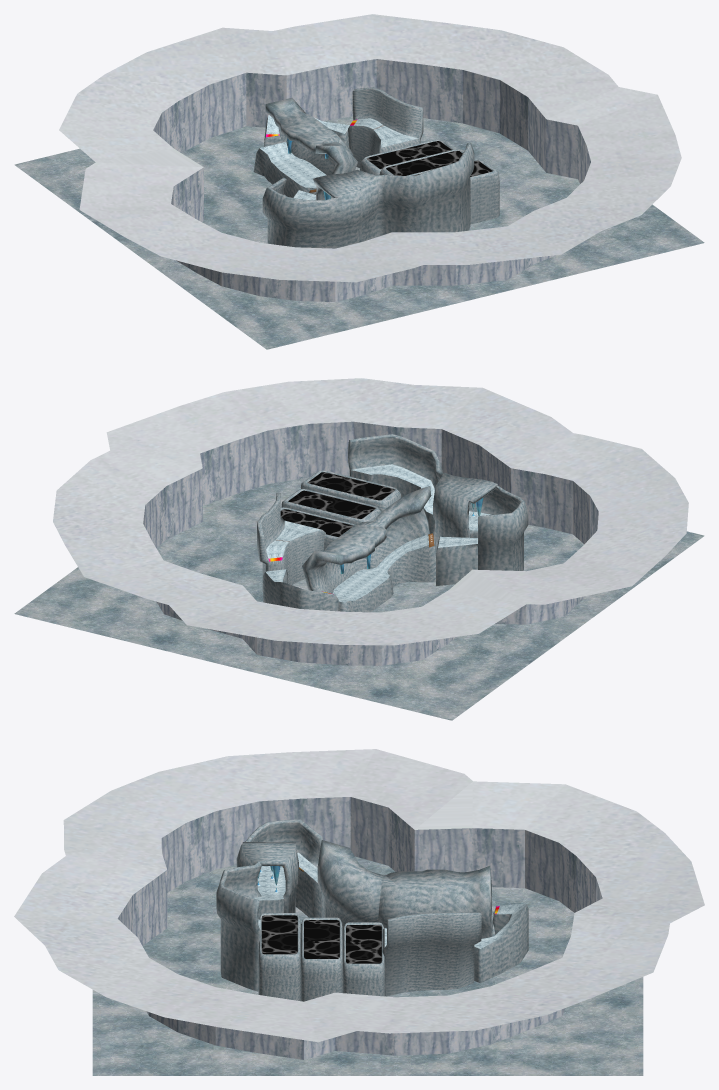
3 views of the same model, one above another, from view 1: azimuth 30°, elevation 25°; view 2: azimuth 150°, elevation 25°; view 3: azimuth 270°, elevation 25° (orthographic). The views are drawn at different scales.
Parts seen in each view (by area): view 1: ice1, wall2.001, wall1.001, road.009, water.015; view 2: ice1, wall2.001, wall1.001, road.009, water.015; view 3: ice1, wall2.001, wall1.001, water.015, road.009.
Part boxes in pixels (left/top/right/bottom): ice1: left=59, top=14, right=681, bottom=282; wall2.001: left=14, top=87, right=704, bottom=349; wall1.001: left=153, top=59, right=590, bottom=301; road.009: left=260, top=115, right=418, bottom=200; water.015: left=367, top=141, right=492, bottom=176; ice1: left=53, top=378, right=688, bottom=645; wall2.001: left=14, top=434, right=704, bottom=720; wall1.001: left=143, top=421, right=598, bottom=665; road.009: left=265, top=464, right=490, bottom=602; water.015: left=280, top=472, right=394, bottom=536; ice1: left=14, top=749, right=704, bottom=1042; wall2.001: left=92, top=819, right=643, bottom=1075; wall1.001: left=117, top=797, right=602, bottom=1059; water.015: left=261, top=915, right=381, bottom=963; road.009: left=253, top=852, right=526, bottom=948.
Bounding box in the file's own units: 169037 × 36761 × 168320.
12 materials, 11 textured.
